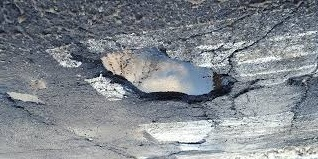pothole: (92, 42, 226, 104), (5, 88, 45, 108)
